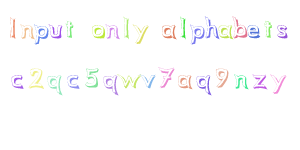2: (28, 67, 45, 88)
5: (85, 67, 100, 88)
7: (157, 65, 175, 89)
9: (215, 65, 229, 88)
I: (4, 15, 25, 42)
a: (160, 22, 177, 40), (217, 23, 233, 39), (176, 74, 193, 89)
b: (232, 13, 247, 39)
c: (9, 72, 25, 90), (66, 73, 80, 89)
e: (246, 22, 261, 40)
h: (204, 14, 219, 38)
l: (121, 15, 133, 39), (179, 15, 188, 40)
n: (19, 23, 35, 40), (106, 23, 121, 40), (233, 72, 248, 89)
o: (90, 23, 105, 39)
p: (189, 23, 205, 45), (33, 23, 48, 46)
q: (102, 74, 119, 96), (196, 74, 213, 96), (47, 75, 63, 95)
s: (275, 23, 290, 39)
t: (63, 17, 76, 39), (262, 19, 273, 39)
u: (48, 22, 63, 40)
v: (141, 73, 155, 88)
w: (119, 73, 141, 89)
y: (270, 72, 287, 95), (132, 23, 149, 45)
z: (252, 73, 267, 89)
